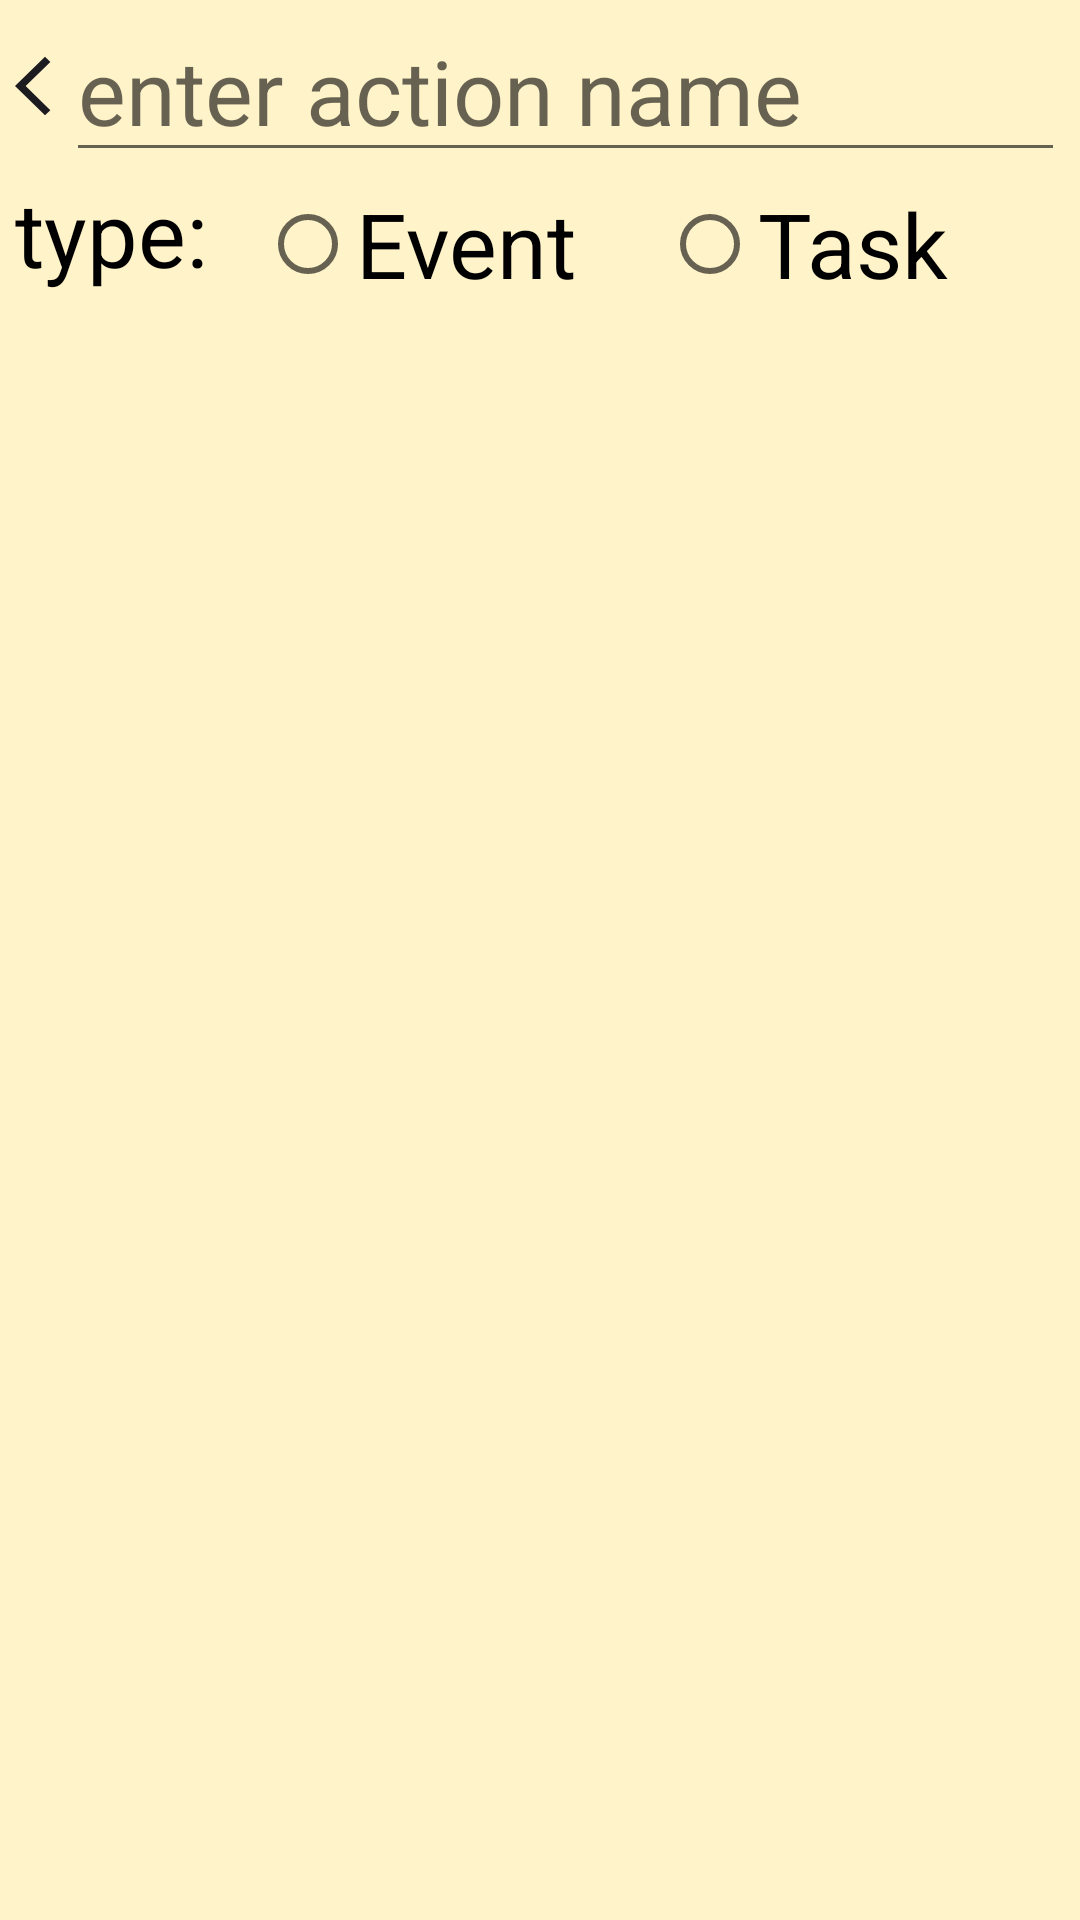

Screen size 1080px x 1920px. Icon name, then its box in pixels as box(x1, y1, x2, y2):
back: box(15, 57, 50, 115)
